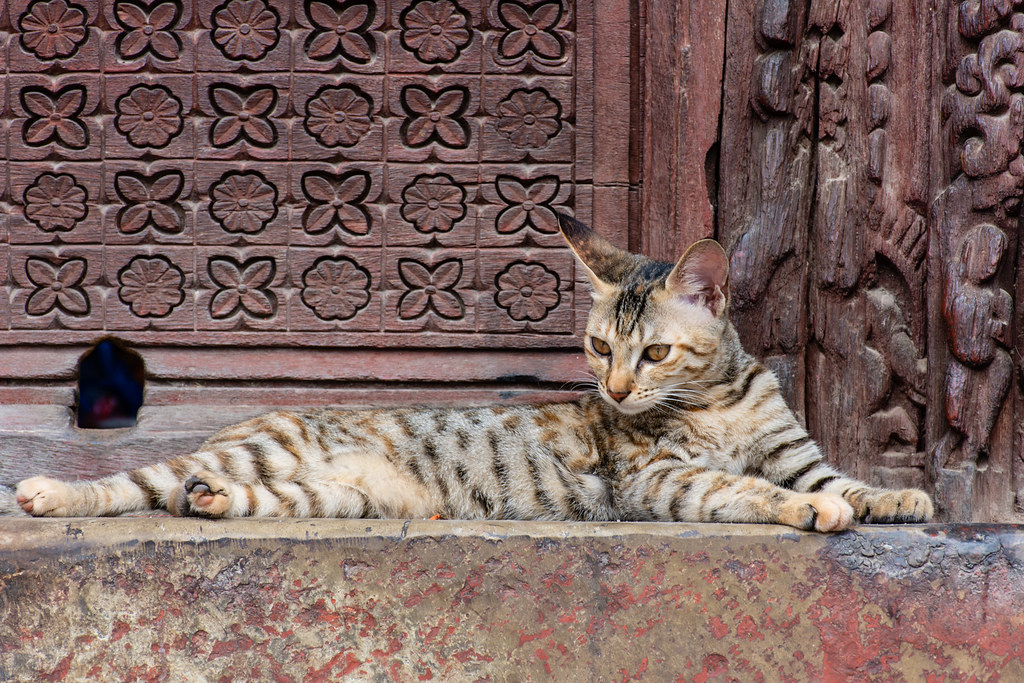cat: (11, 208, 953, 548)
